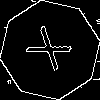X: (25, 25, 81, 78)
